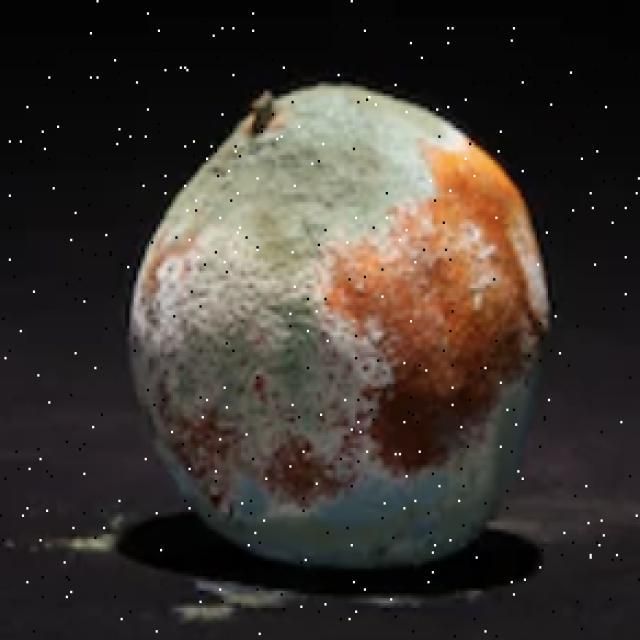sangat-busuk: (129, 84, 548, 568)
